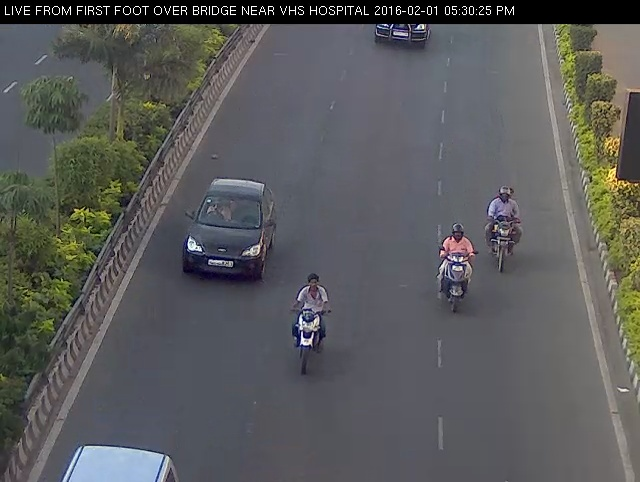Car: (173, 173, 282, 290), (40, 423, 192, 482), (368, 16, 439, 54)
Person: (282, 267, 338, 380), (474, 184, 535, 277), (424, 222, 483, 317)
